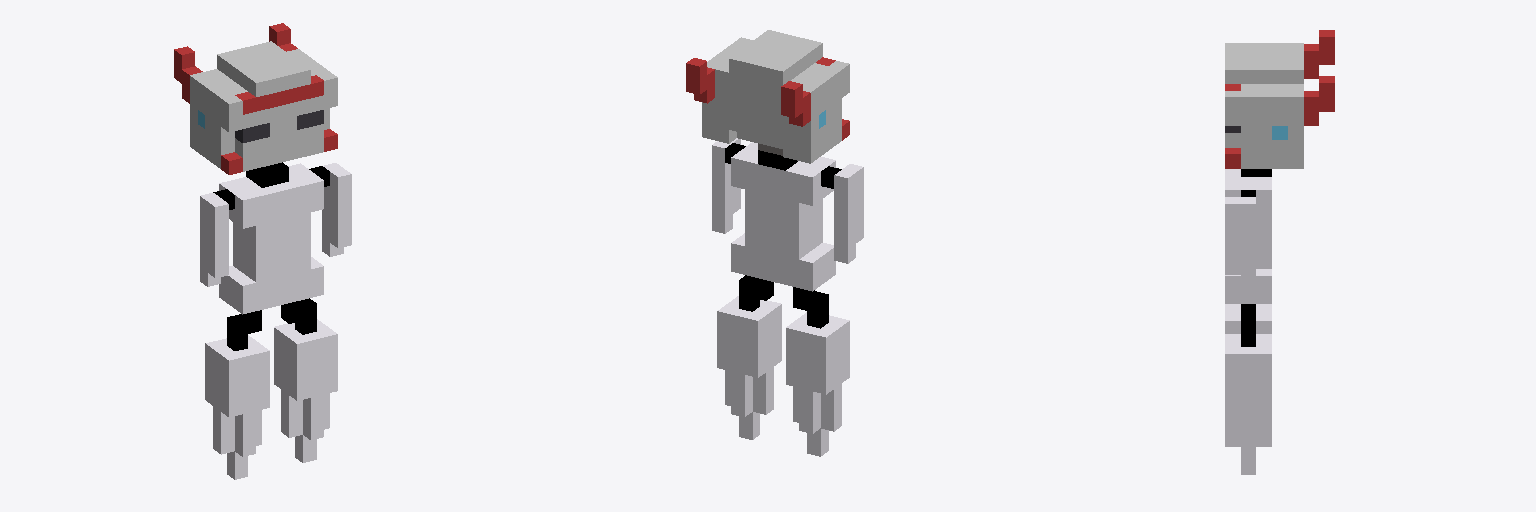
3 views of the same model, side by side, from view 1: azimuth 30°, elevation 25°; view 2: azimuth 150°, elevation 25°; view 3: azimuth 270°, elevation 25° (orthographic).
Parts seen in each view (by area): view 1: Model; view 2: Model; view 3: Model.
Boxes of the visible parts, box(x1,y1,x2,y2) form: Model: box(174, 23, 351, 479); Model: box(686, 30, 863, 456); Model: box(1225, 30, 1334, 474).
Bounding box in the file's own units: 10 × 28 × 7.
Materials: 1 (1 with a texture image).